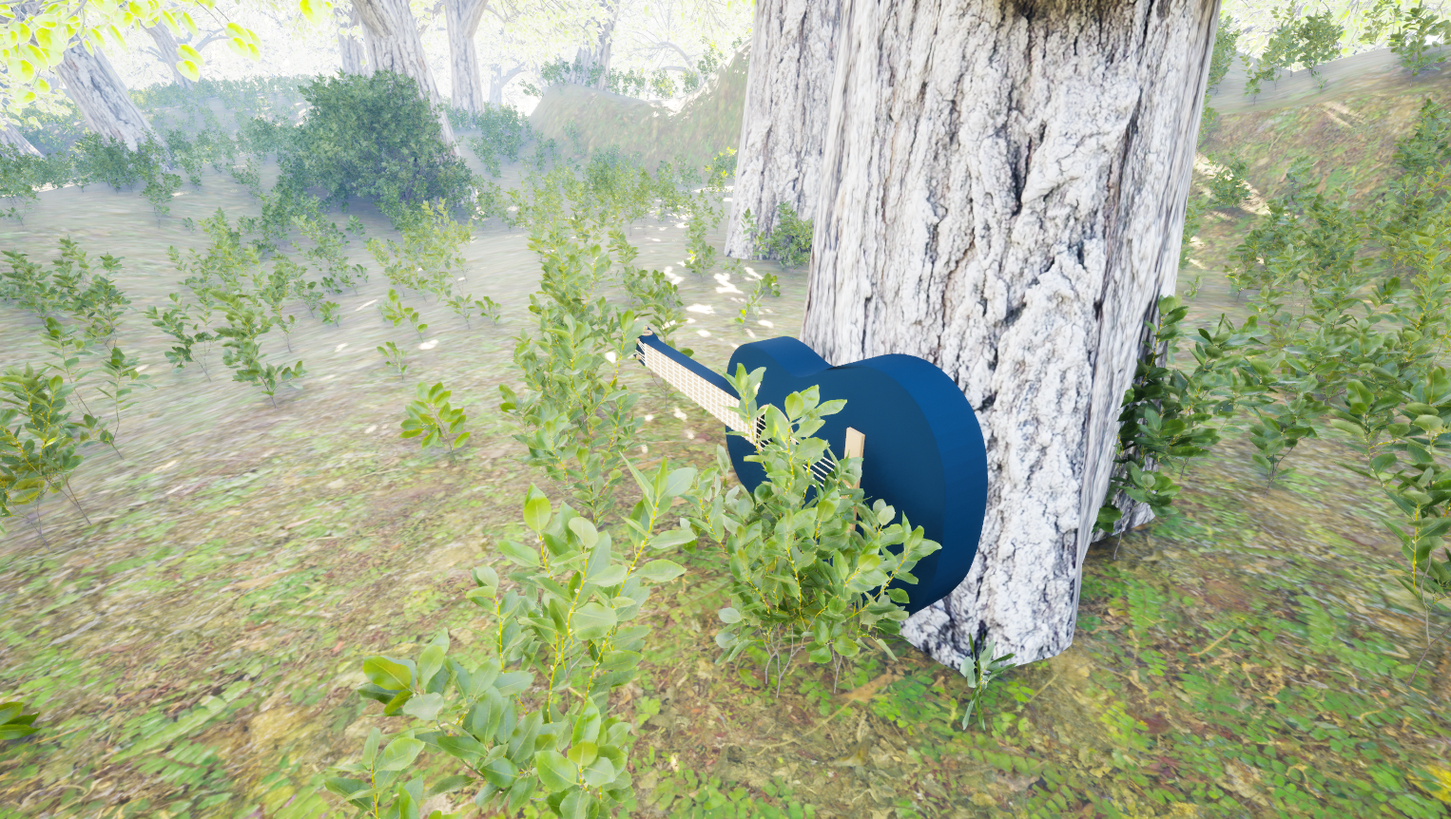Guitar: (610, 257, 1011, 666)
